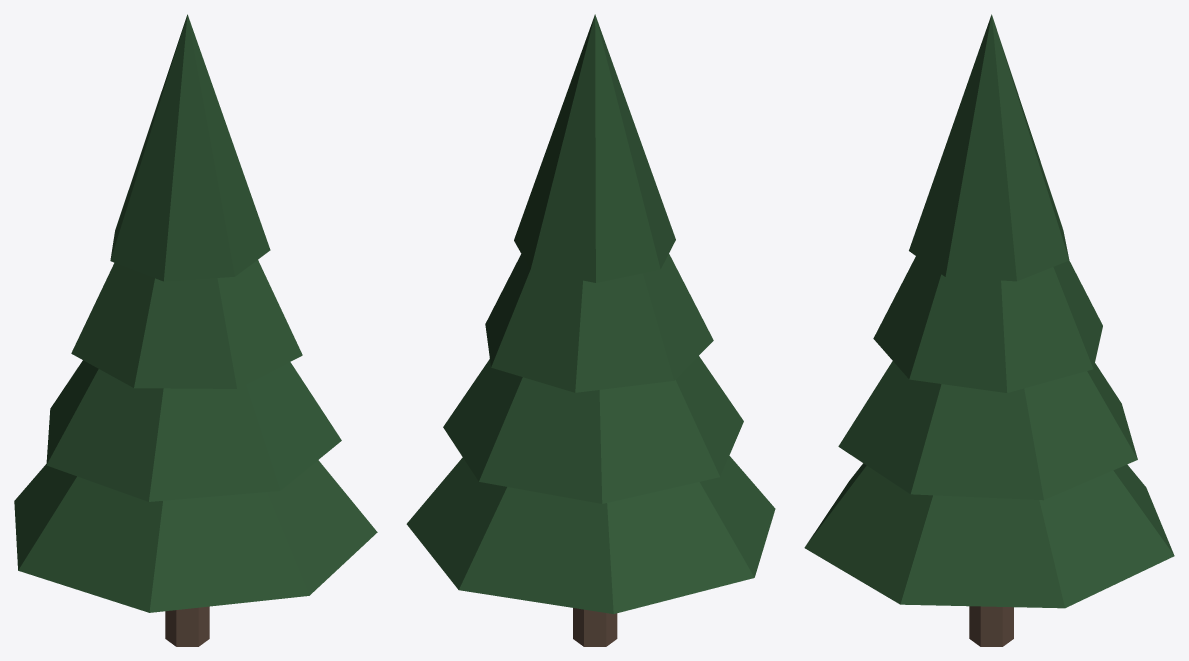
The model's file is gran_2.glb.
The picture shows the model from 3 angles, left to right: view 1: azimuth 30°, elevation 25°; view 2: azimuth 150°, elevation 25°; view 3: azimuth 270°, elevation 25°; orthographic projection.
Parts seen in each view (by area): view 1: gran_2; view 2: gran_2; view 3: gran_2.
Boxes of the visible parts, x1,y1,x2,y2 form: gran_2: (14,14,377,646); gran_2: (406,14,775,646); gran_2: (804,14,1174,646).
Size of the model in its own units: 2.96 by 5.58 by 3.
